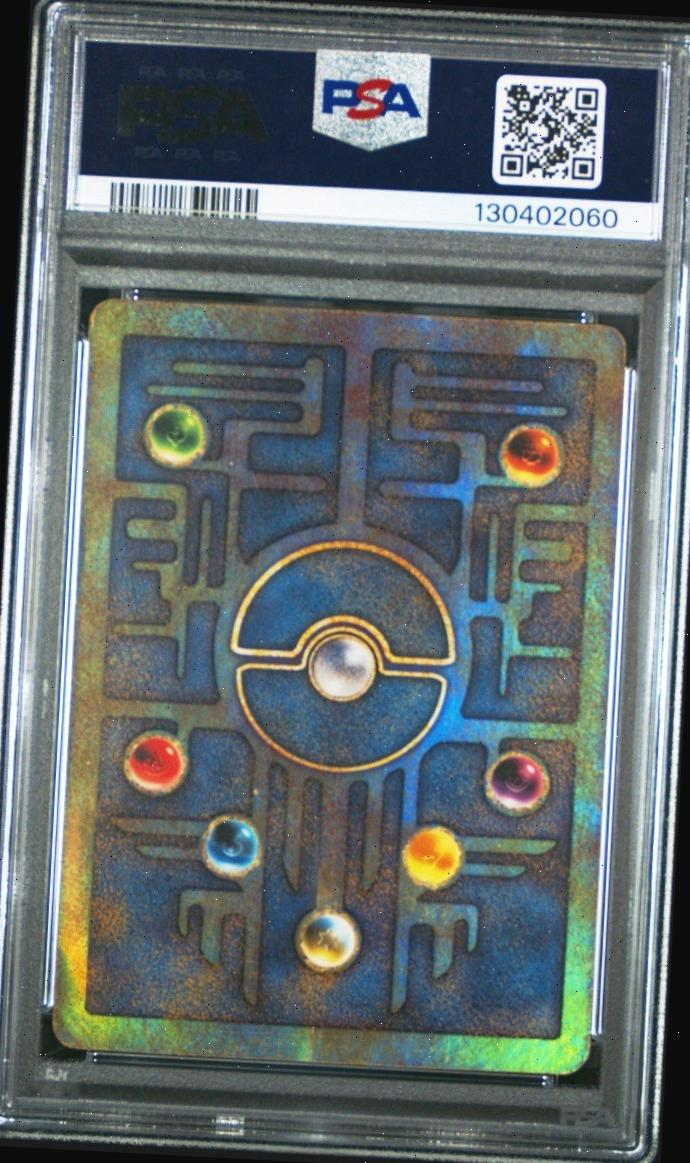card-2UtV: (51, 298, 627, 1076)
